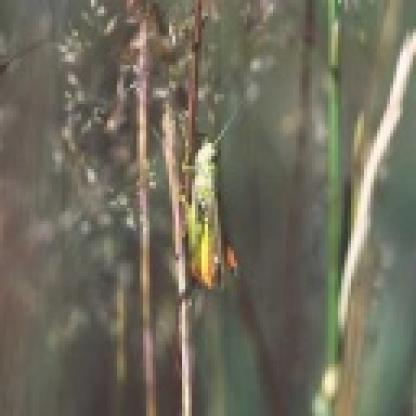grasshopper: (178, 111, 240, 310)
